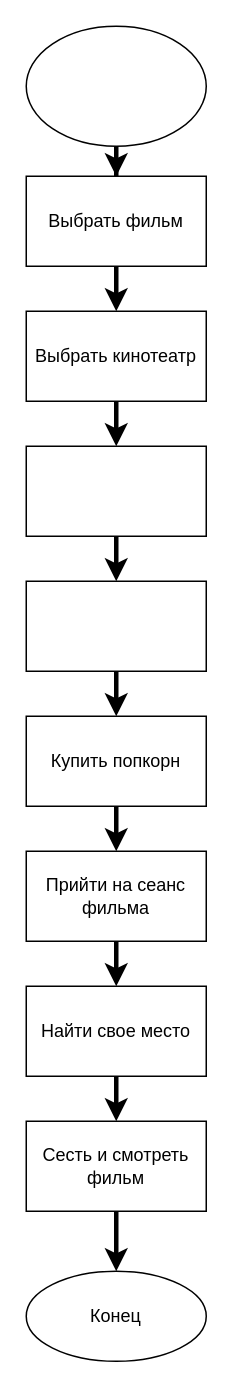
This 233x1388 diagram has some shape labels left out. Here are the shapes that lost their labels. From the top down, the centre of each, then its label:
At pixel 115 85: "Старт".
At pixel 115 490: "Прийти в кино".
At pixel 115 625: "Купить билет".
